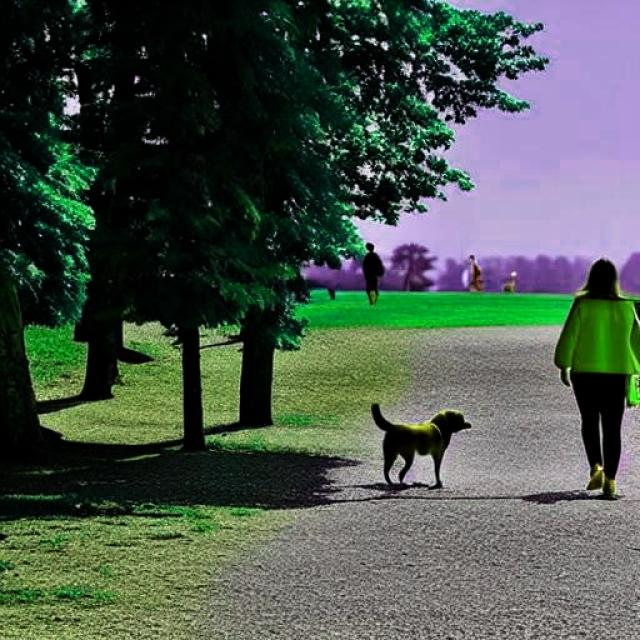Unleashed_Dog: (371, 358, 628, 490)
